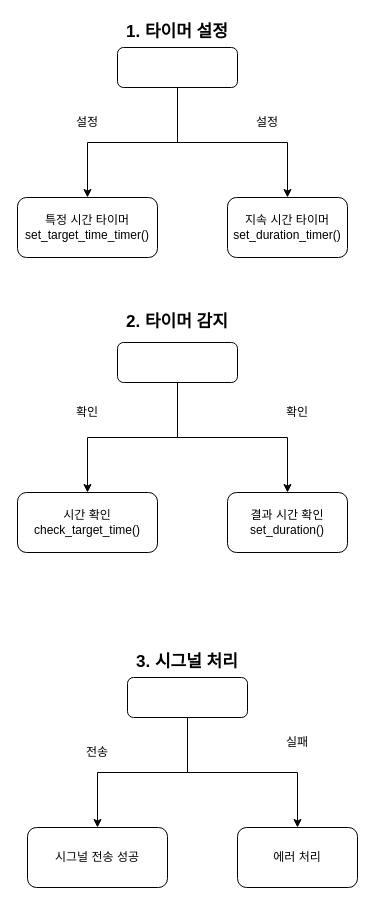
This 375x905 diagram has some shape labels left out. Here are the shapes that lost their labels. From the top down, the box of each, then its label:
(116, 46, 238, 88): TimerConfig 구조체
(116, 342, 238, 382): detect_timer_events()
(126, 676, 248, 718): send_timer_signal()
